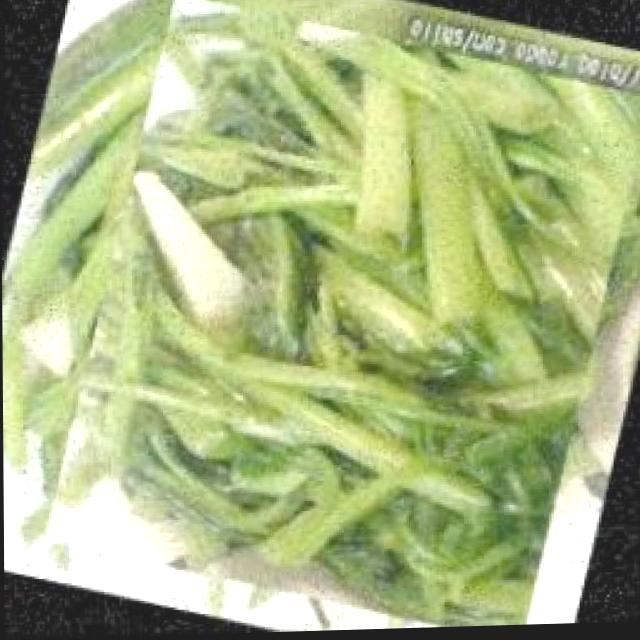water_spinach: (27, 0, 640, 639)
